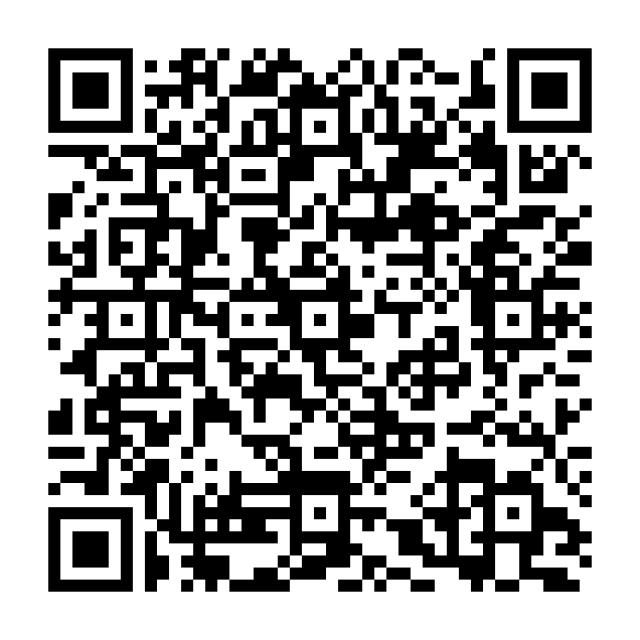QRCode: (1, 1, 640, 640)
